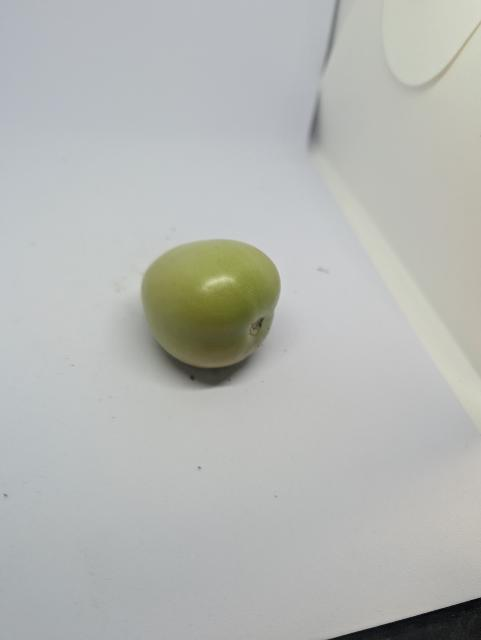green: (136, 236, 285, 373)
